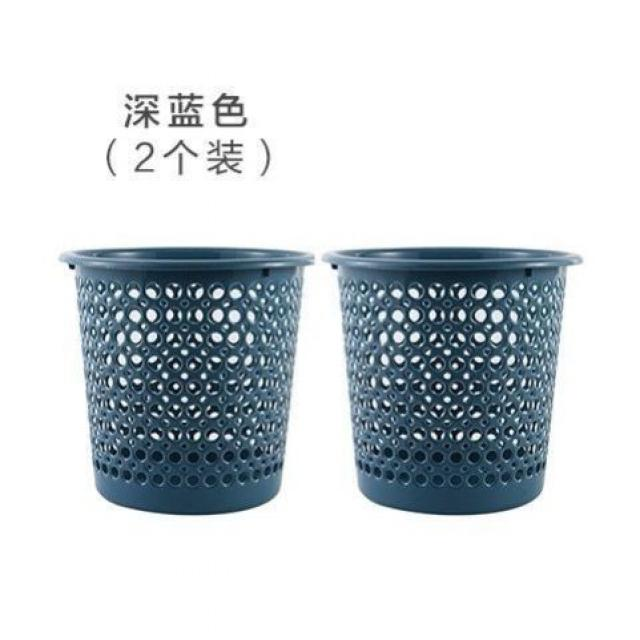Dustbin: (322, 241, 586, 522), (60, 240, 316, 520)
